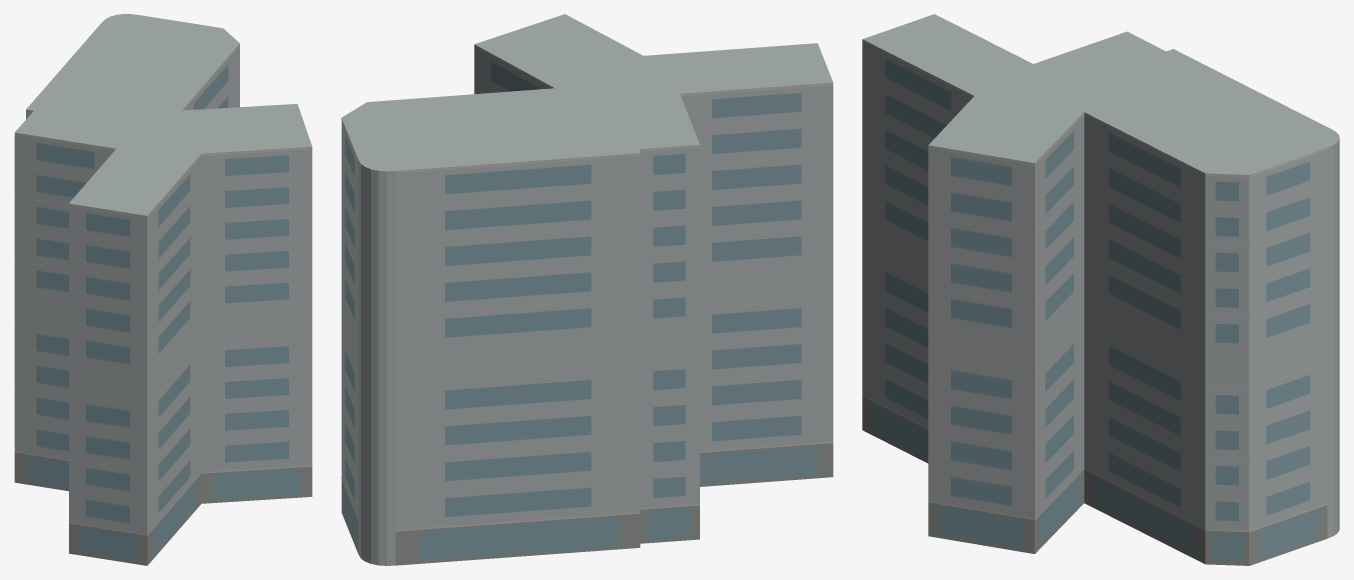
File: survey-upis-33018227.glb
The picture shows the model from 3 angles, left to right: view 1: azimuth 30°, elevation 25°; view 2: azimuth 150°, elevation 25°; view 3: azimuth 270°, elevation 25°; orthographic projection. The views are drawn at different scales.
Visible parts, largest first — view 1: survey-upis-33018227.tmp; view 2: survey-upis-33018227.tmp; view 3: survey-upis-33018227.tmp.
Part boxes in pixels (x1,y1,x2,y2): survey-upis-33018227.tmp: [14, 14, 312, 565]; survey-upis-33018227.tmp: [341, 14, 833, 565]; survey-upis-33018227.tmp: [862, 14, 1339, 565].
Size of the model in its own units: 30.09 by 34.06 by 37.69.
